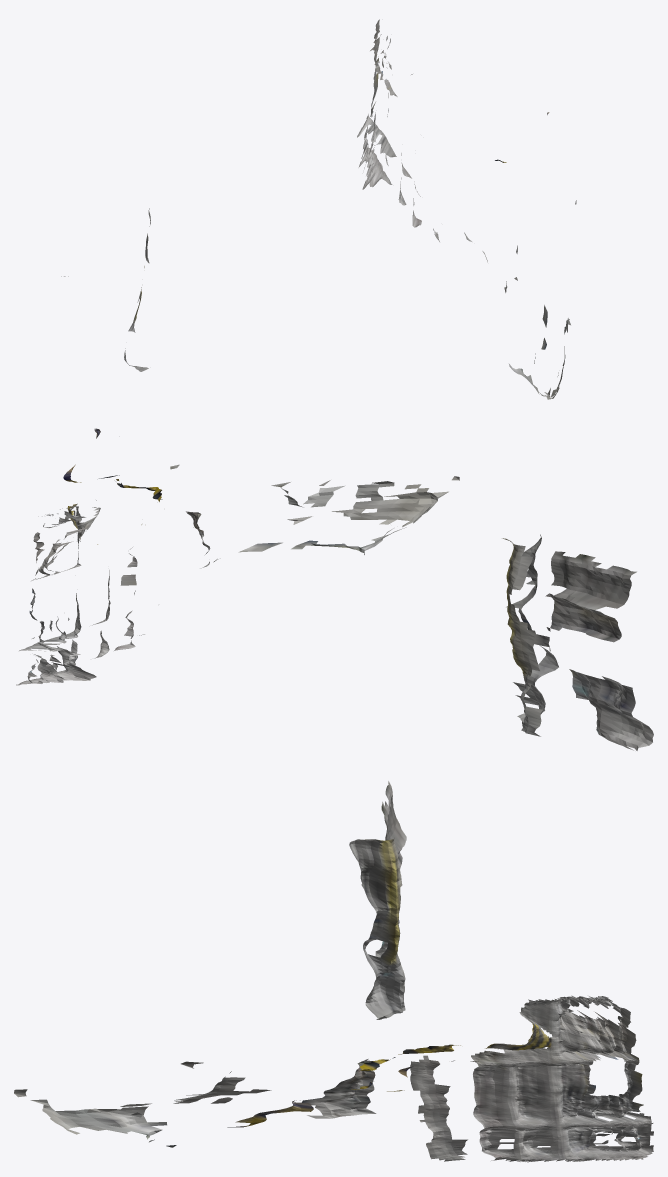
Rendered from fence-observed.glb.
3 views of the same model, one above another, from view 1: azimuth 30°, elevation 25°; view 2: azimuth 150°, elevation 25°; view 3: azimuth 270°, elevation 25° (orthographic). The views are drawn at different scales.
Visible parts, largest first — view 1: geometry_0; view 2: geometry_0; view 3: geometry_0.
Boxes of the visible parts, <box> form: geometry_0: <box>61,19,576,399</box>; geometry_0: <box>16,428,653,750</box>; geometry_0: <box>14,781,653,1162</box>.
Bounding box in the file's own units: 14.32 × 4.58 × 13.14.
